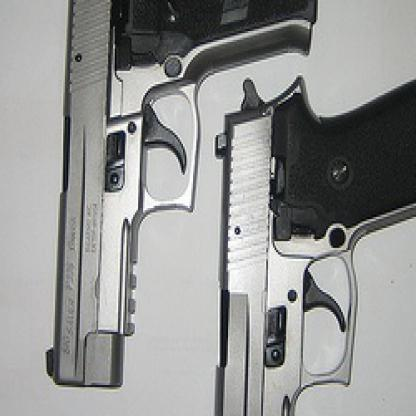gun: (43, 0, 322, 390), (200, 73, 414, 414)
